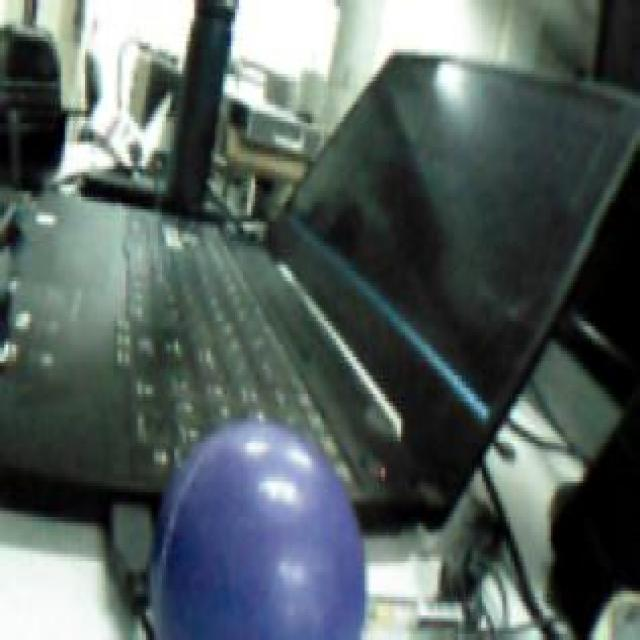BallPurple: (147, 421, 362, 640)
